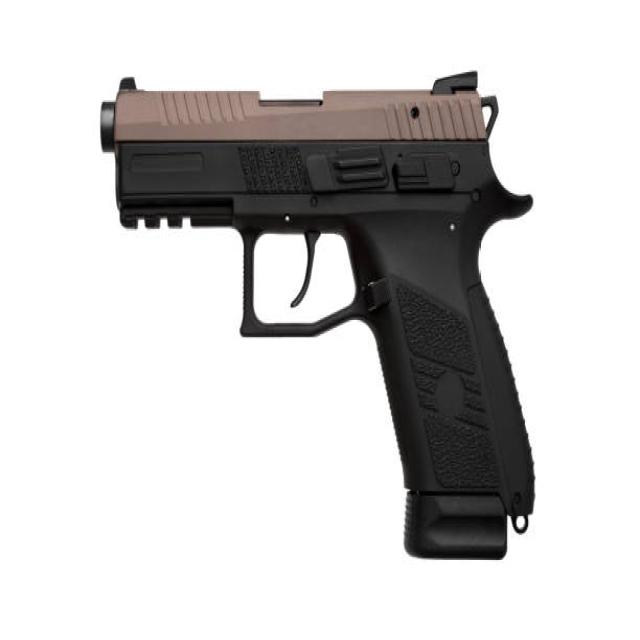pistol: (93, 66, 541, 570)
